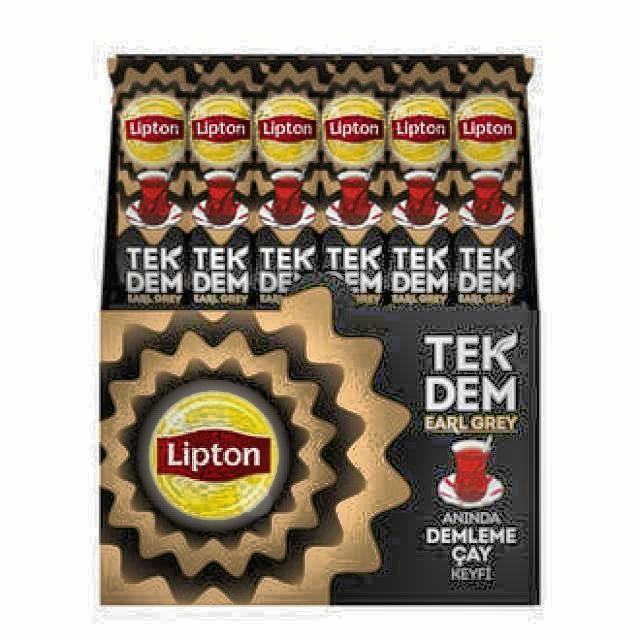cardboard: (96, 54, 541, 610)
